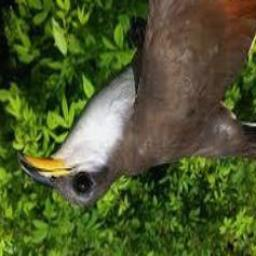Cuckoo: (18, 0, 256, 206)
